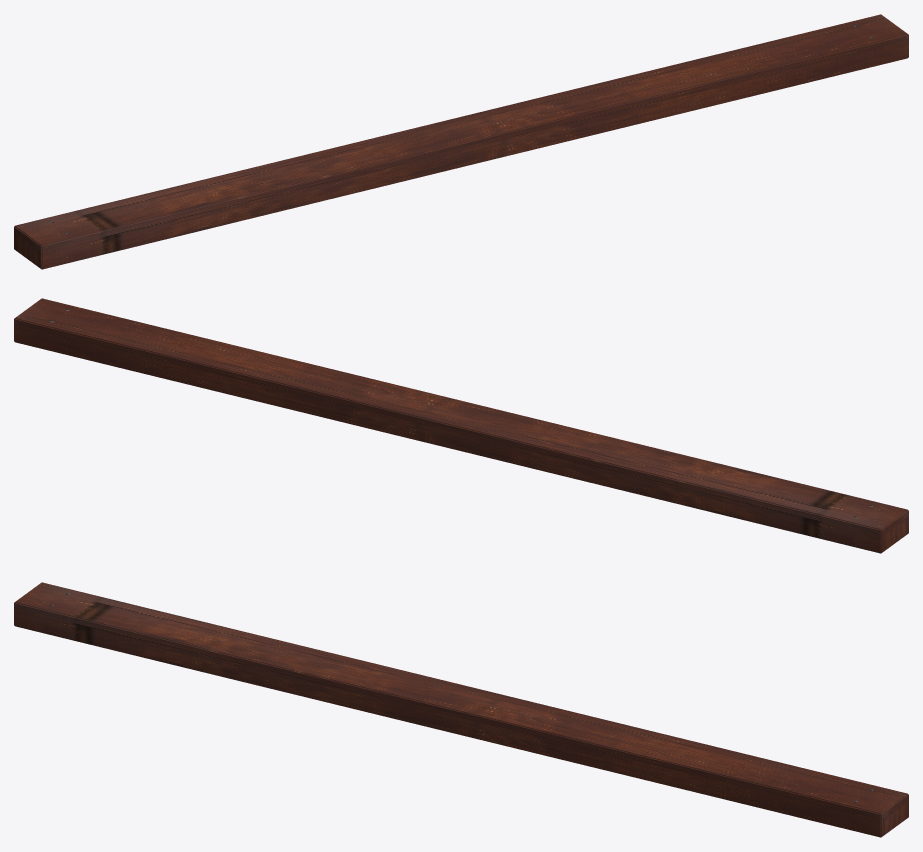
Rendered from pier-board.glb.
The picture shows the model from 3 angles, top to bottom: view 1: azimuth 30°, elevation 25°; view 2: azimuth 150°, elevation 25°; view 3: azimuth 330°, elevation 25°; orthographic projection.
Parts seen in each view (by area): view 1: Frame; view 2: Frame; view 3: Frame.
Boxes of the visible parts, bbox=[...] form: Frame: bbox=[14, 14, 908, 269]; Frame: bbox=[14, 298, 908, 553]; Frame: bbox=[14, 582, 908, 837].
Size of the model in its own units: 2.7 by 0.0726 by 0.151.
3 materials, 2 textured.
